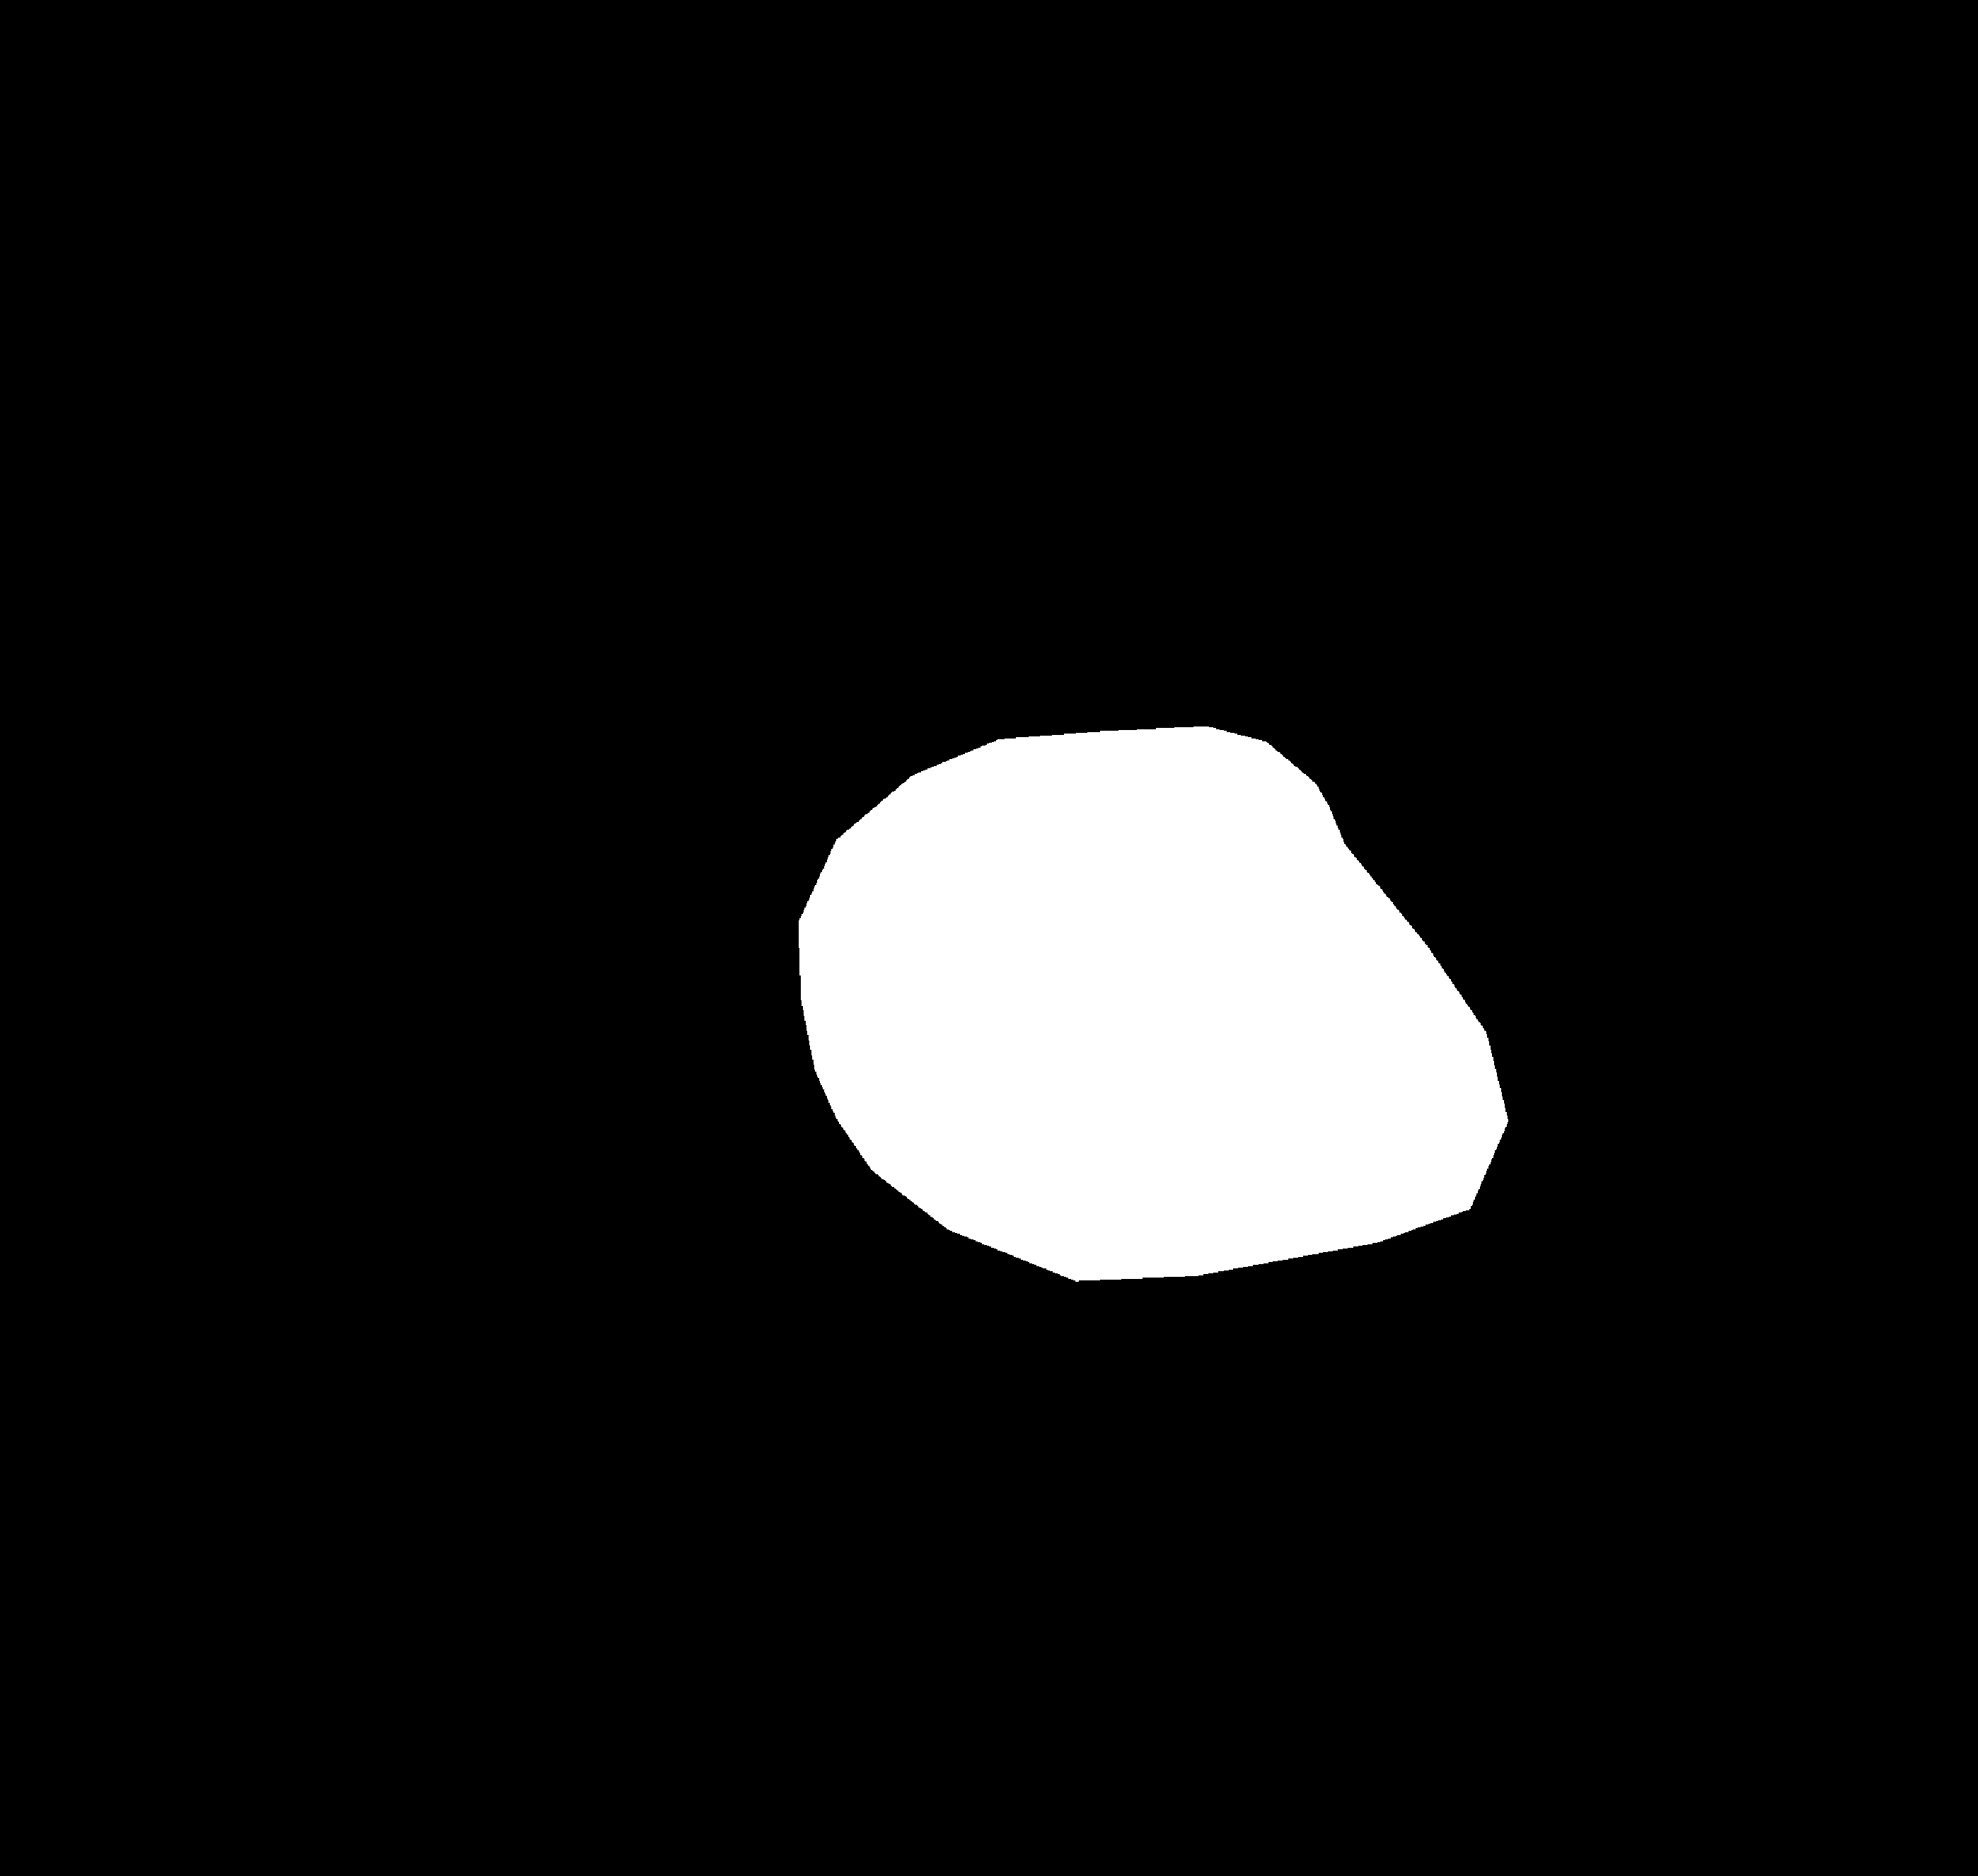heart: (785, 797, 1523, 1248)
left_lung: (245, 118, 943, 1370)
right_lung: (1082, 101, 1777, 1359)
